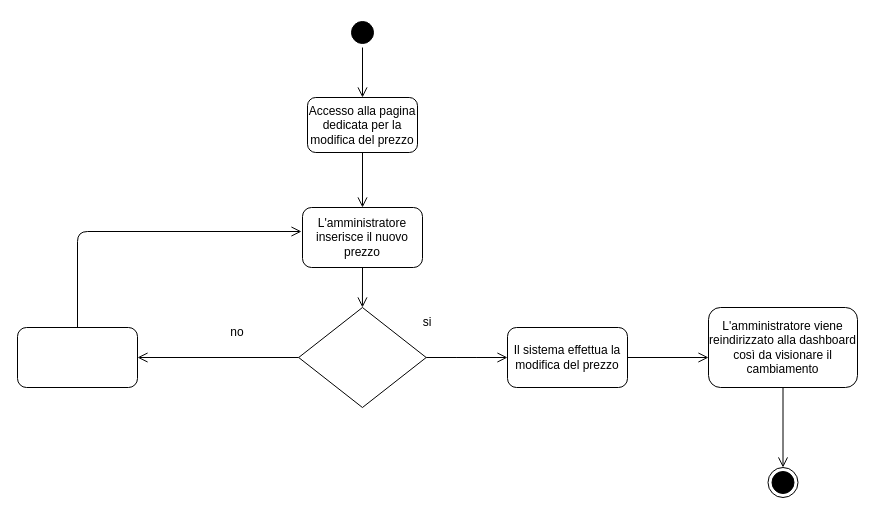
The diagram is 875 pixels wide and 515 high, and some of its shapes have lost their labels. The shapes that lost their labels are listed below. From the top down, each one's box as (x1, y1, x2, y2) in pixels, then its label:
(16, 326, 138, 388): Si invita l'amministratore ad inserire nuovamente il prezzo
(298, 306, 426, 408): il prezzo è valido?
